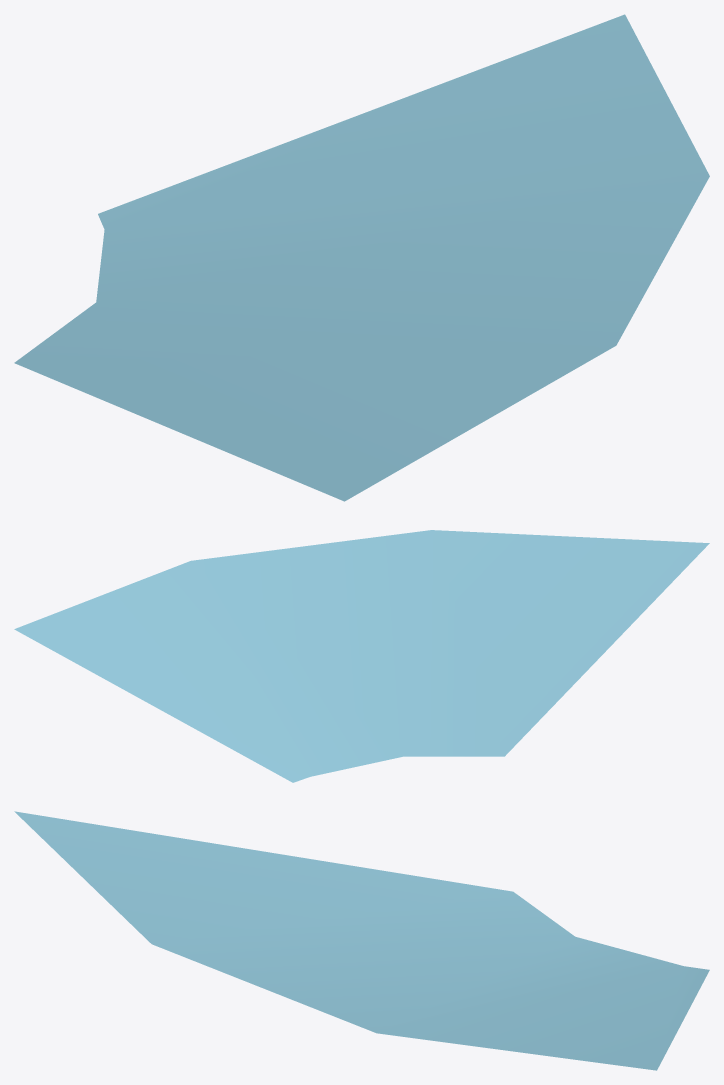
File: ConsoleMatCorner.FBX
The picture shows the model from 3 angles, top to bottom: view 1: azimuth 30°, elevation 25°; view 2: azimuth 150°, elevation 25°; view 3: azimuth 270°, elevation 25°; orthographic projection. The views are drawn at different scales.
Parts seen in each view (by area): view 1: ConsoleMatCorner; view 2: ConsoleMatCorner; view 3: ConsoleMatCorner.
Boxes of the visible parts, box(x1,y1,x2,y2) form: ConsoleMatCorner: box(14, 14, 709, 501); ConsoleMatCorner: box(14, 530, 709, 782); ConsoleMatCorner: box(14, 811, 709, 1070).
Bounding box in the file's own units: 0.52 × 0.0742 × 0.5896.
